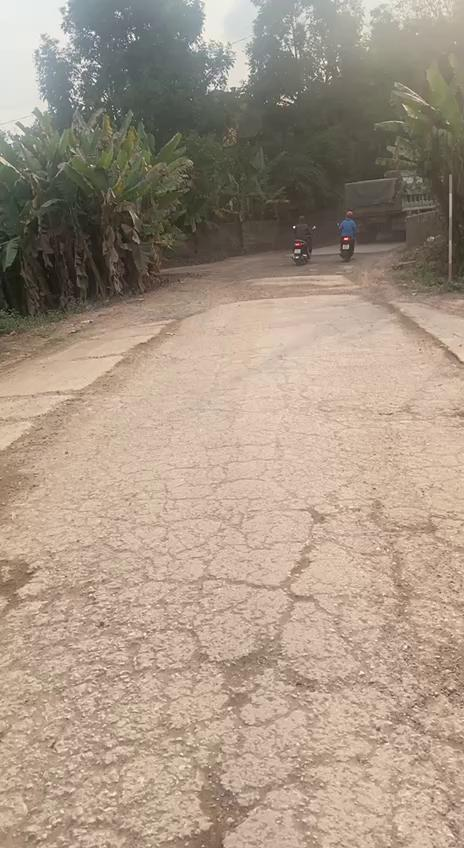pothole: (134, 757, 258, 848), (218, 618, 302, 700)
